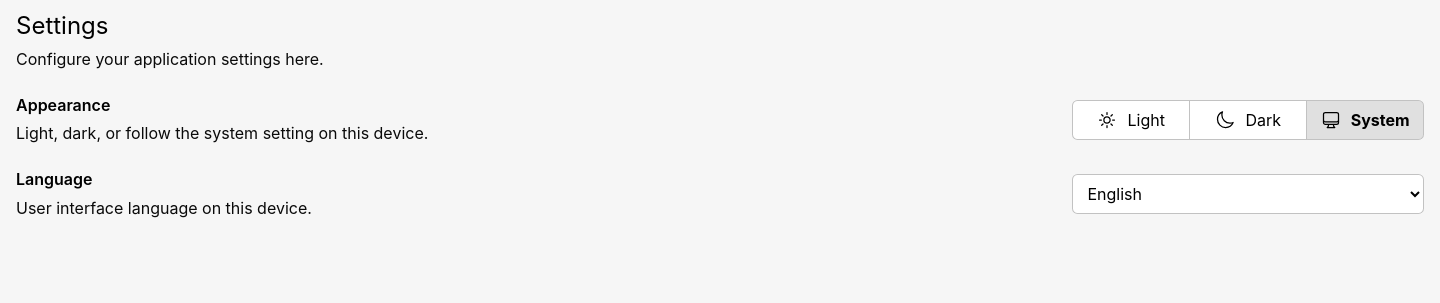
Test case: SettingsPage › exposes error feedback to assistive tech when persist fails
This screenshot has width=1440, height=303.
Click the button "Light": x=1132, y=120 [1073,101,1190,139]
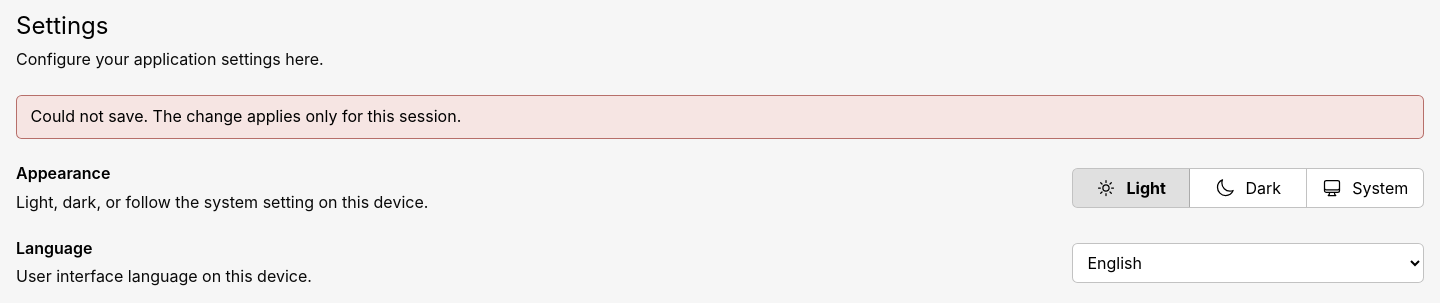
Expected: the message "Could not save. The change applies only for this session." is shown, [16,95,1424,139]
